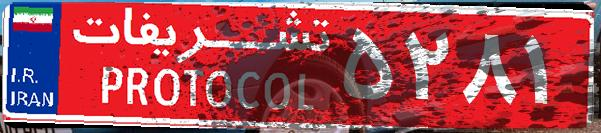1: (520, 20, 580, 115)
2: (400, 20, 460, 115)
5: (340, 20, 400, 115)
8: (460, 20, 520, 115)
تشریفات: (60, 8, 340, 125)
